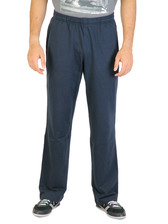clothoes: (35, 11, 129, 199)
shoes: (89, 194, 129, 220), (27, 194, 65, 216)
